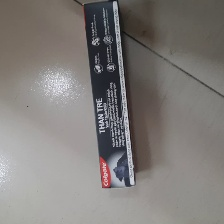Colgate Than: (81, 1, 138, 190)
